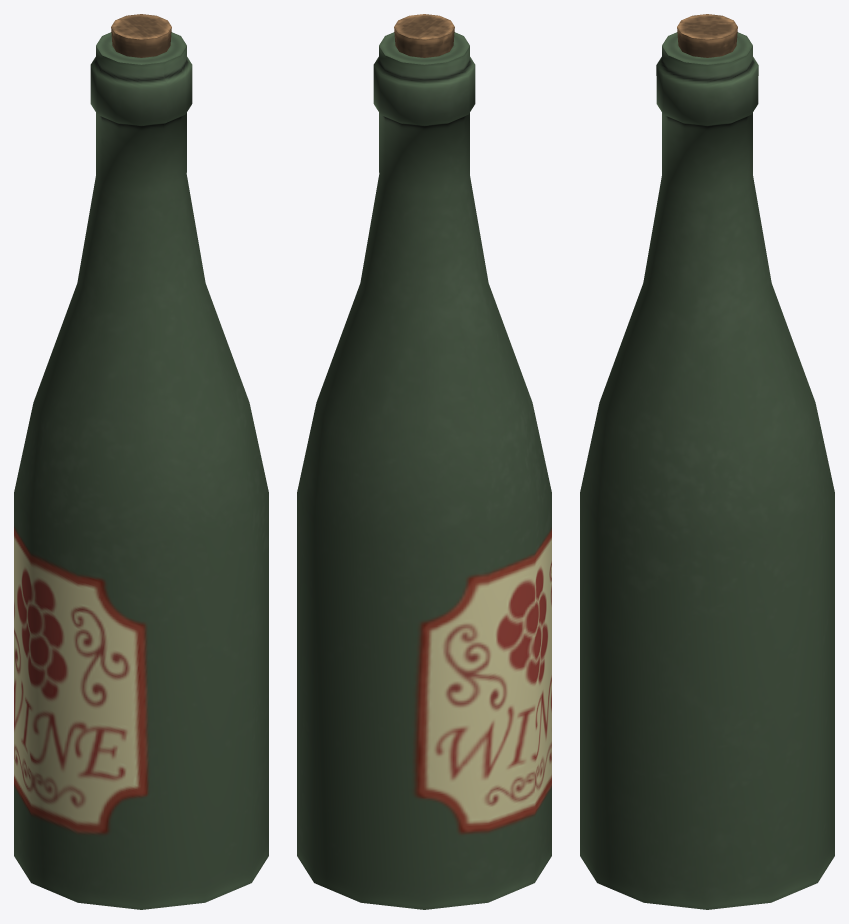
File: LOD0_smallBottle_wLabel_closed.fbx
3 renders of one model, left to right at view 1: azimuth 30°, elevation 25°; view 2: azimuth 150°, elevation 25°; view 3: azimuth 270°, elevation 25°, orthographic.
Parts seen in each view (by area): view 1: LOD0_smallBottle_wLabel_closed; view 2: LOD0_smallBottle_wLabel_closed; view 3: LOD0_smallBottle_wLabel_closed.
Boxes of the visible parts, x1,y1,x2,y2 form: LOD0_smallBottle_wLabel_closed: (14,14,268,909); LOD0_smallBottle_wLabel_closed: (297,14,551,909); LOD0_smallBottle_wLabel_closed: (580,14,834,909).
Size of the model in its own units: 0.0929 by 0.3337 by 0.0929.
